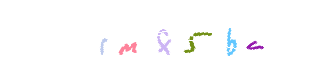5: (155, 0, 235, 80)
B: (190, 0, 270, 80)
F: (124, 0, 204, 80)
M: (121, 0, 201, 80)
R: (107, 0, 187, 80)
V: (214, 0, 294, 80)
